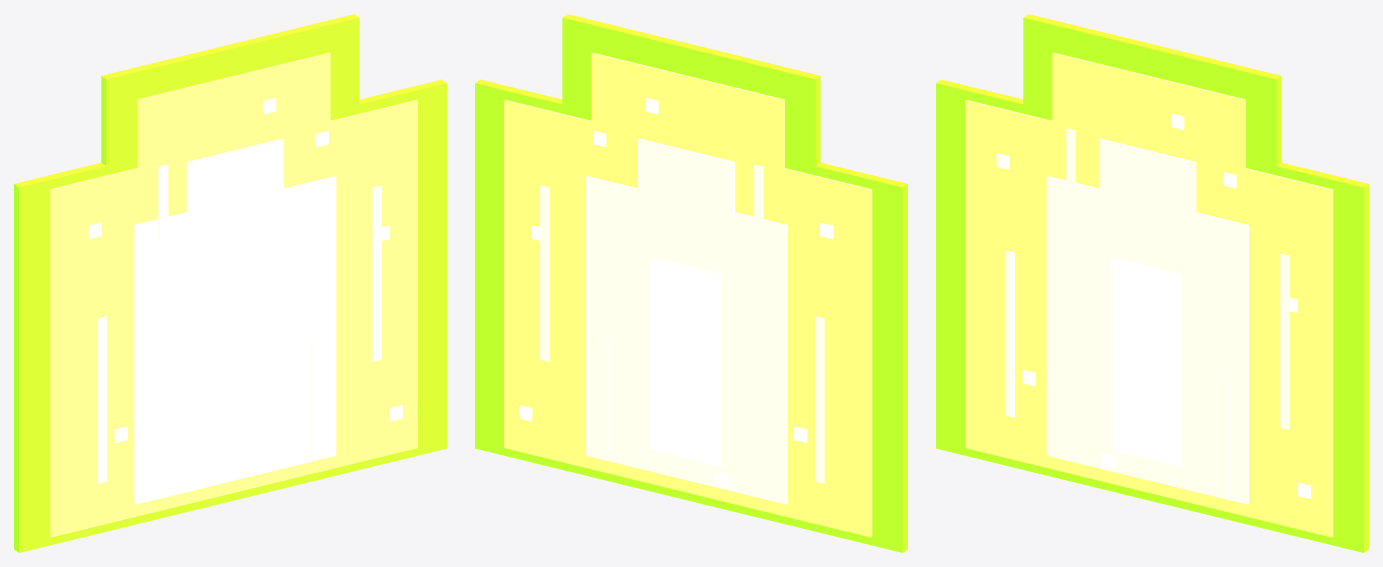
The model's file is tt-portal-lime.glb.
3 renders of one model, left to right at view 1: azimuth 30°, elevation 25°; view 2: azimuth 150°, elevation 25°; view 3: azimuth 330°, elevation 25°, orthographic.
Parts seen in each view (by area): view 1: box-prop; view 2: box-prop; view 3: box-prop.
Boxes of the visible parts, left/top/right/bottom form: box-prop: left=14, top=14, right=446, bottom=552; box-prop: left=475, top=14, right=907, bottom=552; box-prop: left=936, top=14, right=1368, bottom=552.
Bounding box in the file's own units: 4.9 × 4.95 × 0.3.
